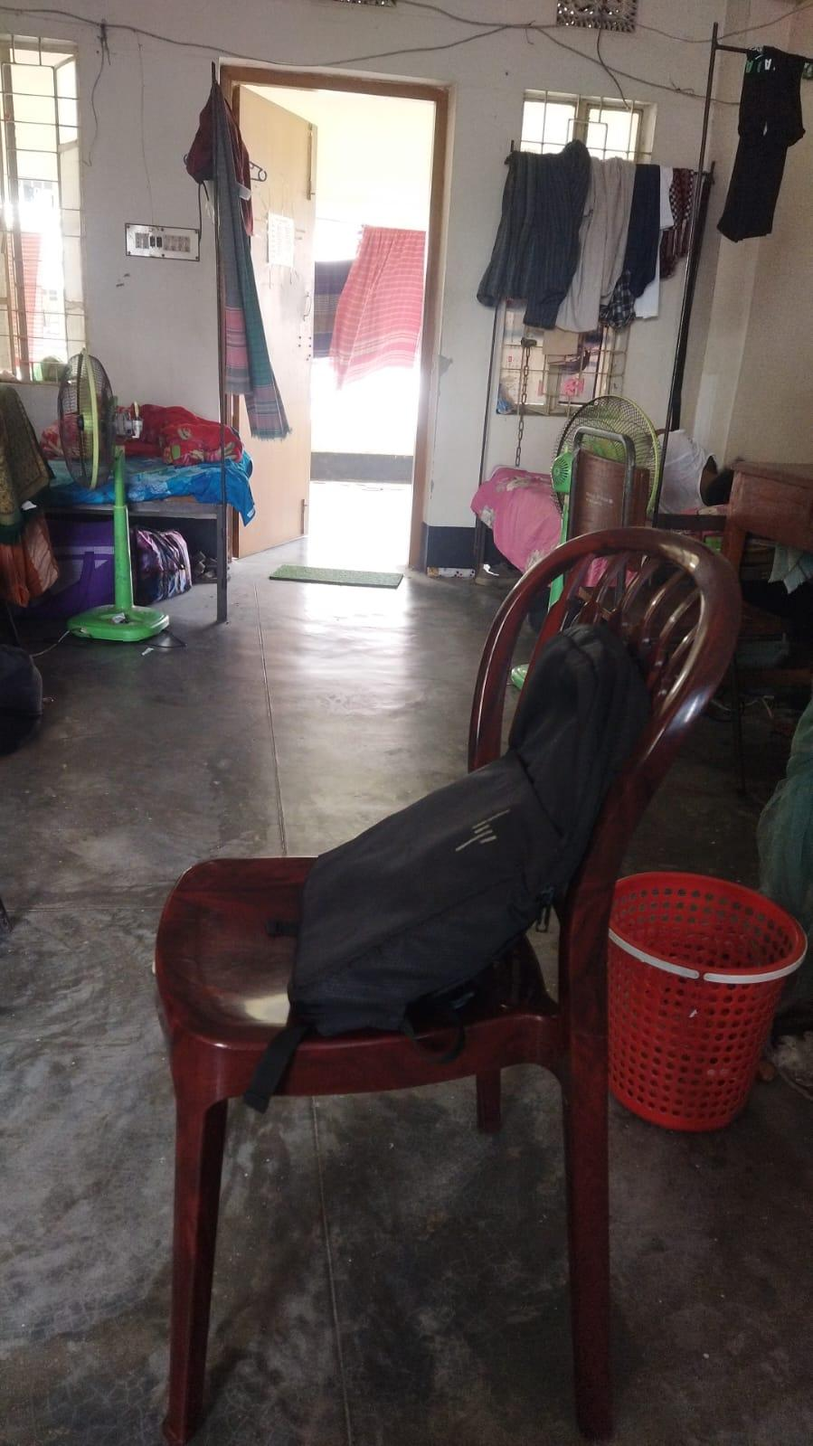Bag: (287, 602, 627, 1009)
Basket: (602, 789, 772, 1221)
Chair: (134, 495, 724, 1415)
Door: (225, 69, 325, 550)
Fan: (38, 351, 166, 649), (546, 392, 646, 583)
Floor Mat: (269, 539, 415, 594)
